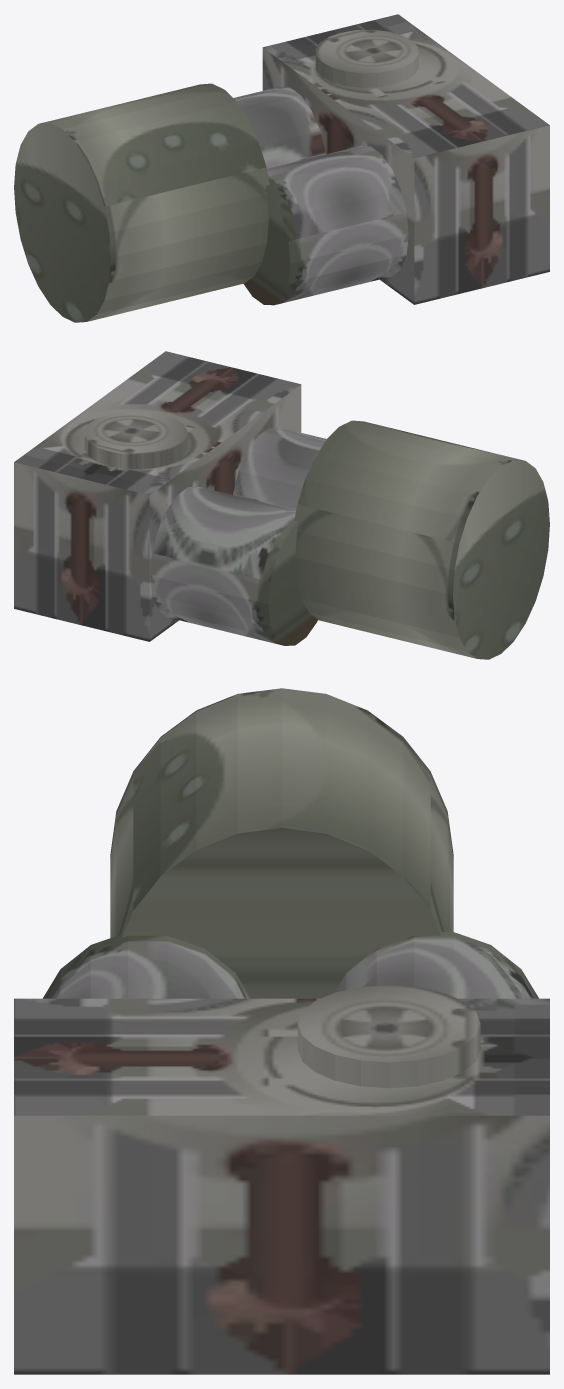
File: Building_BioferriteGenerator.glb
The picture shows the model from 3 angles, top to bottom: view 1: azimuth 30°, elevation 25°; view 2: azimuth 150°, elevation 25°; view 3: azimuth 270°, elevation 25°; orthographic projection. The views are drawn at different scales.
Visible parts, largest first — view 1: BioferriteGenerator; view 2: BioferriteGenerator; view 3: BioferriteGenerator.
Part boxes in pixels (x1,y1,x2,y2): BioferriteGenerator: [14, 14, 549, 322]; BioferriteGenerator: [14, 351, 549, 659]; BioferriteGenerator: [14, 688, 549, 1374].
Size of the model in its own units: 2.94 by 1.28 by 1.88.
Materials: 1 (1 with a texture image).
